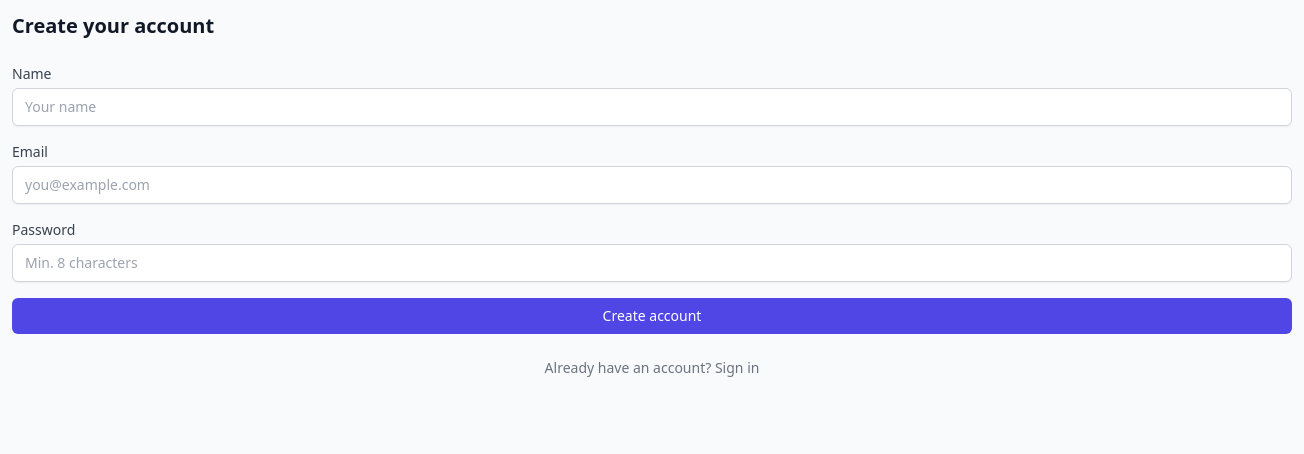
RegisterForm › shows error when password is shorter than 8 characters
The image size is (1304, 454).
Type "Alice" into the field labelled "Name" at (652,107), box [12,88,1292,126]
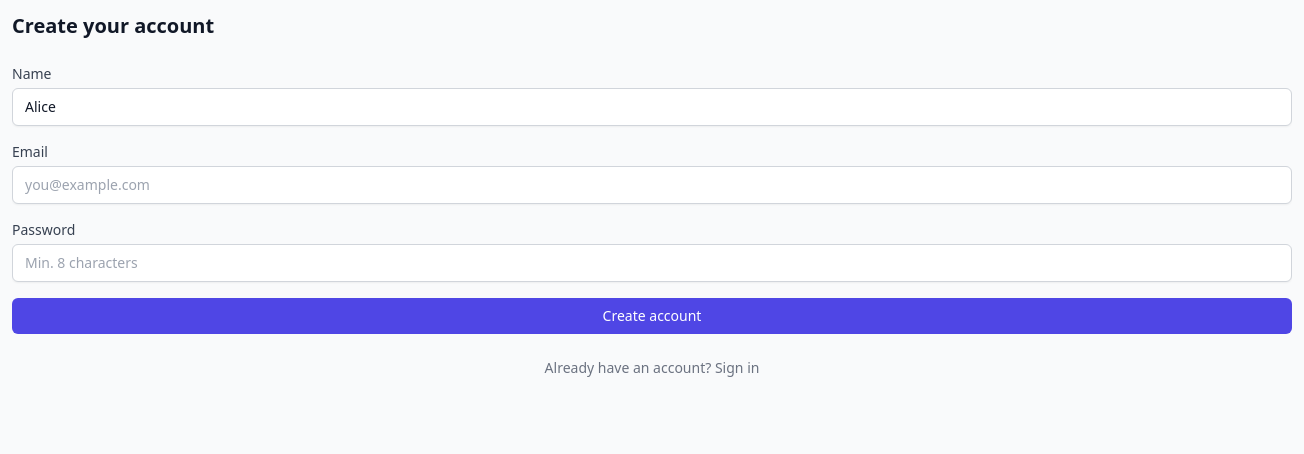
Type "alice@test.com" into the field labelled "Email" at (652,185), box [12,166,1292,204]
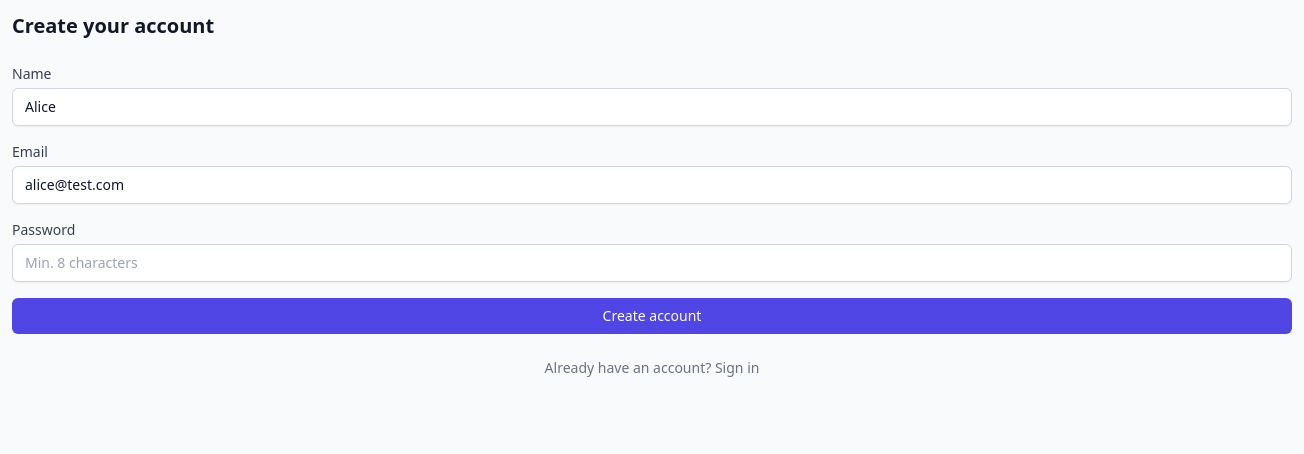
Type "short" into the password field labelled "Password" at (652,263), box [12,244,1292,282]
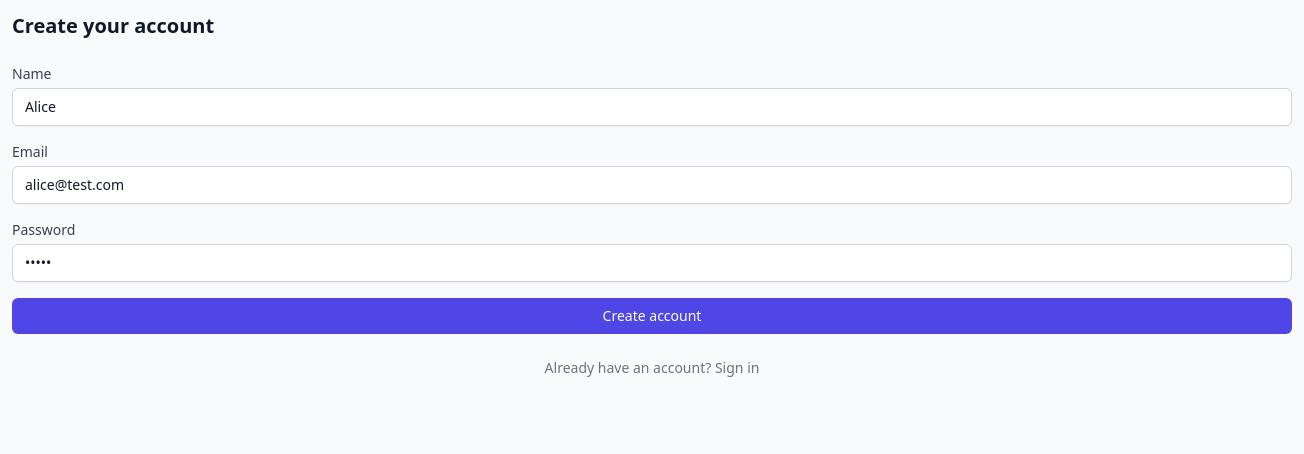
Submit the form labelled "Email", box [12,64,1292,334]
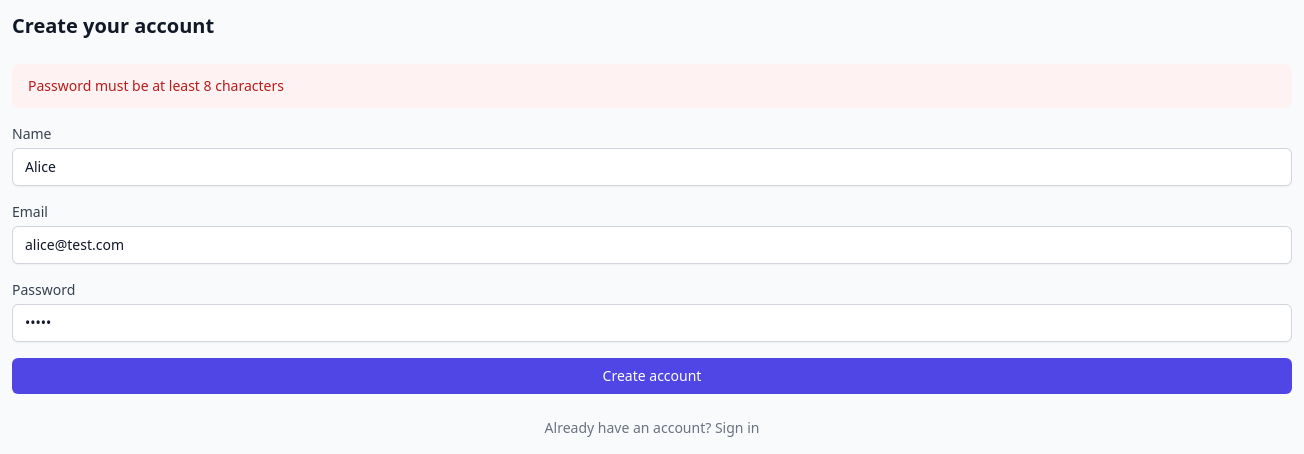
Now the text "Password must be at least 8 characters" is shown, box [12,64,1292,108]
